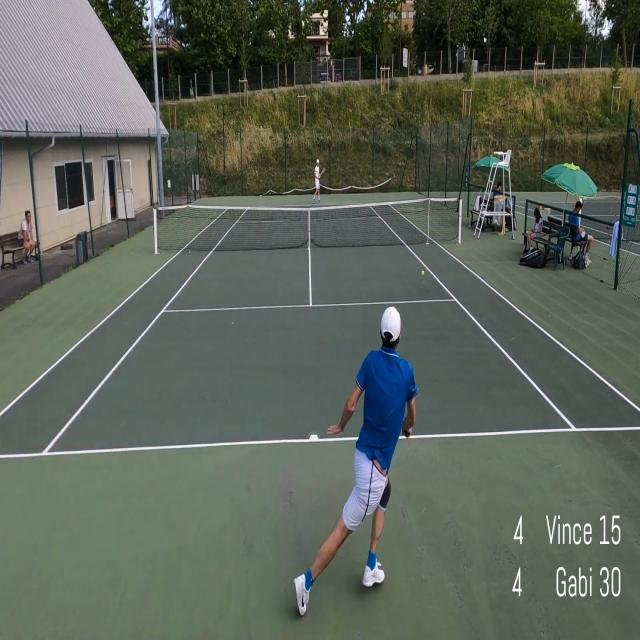ball: (420, 269, 426, 277)
